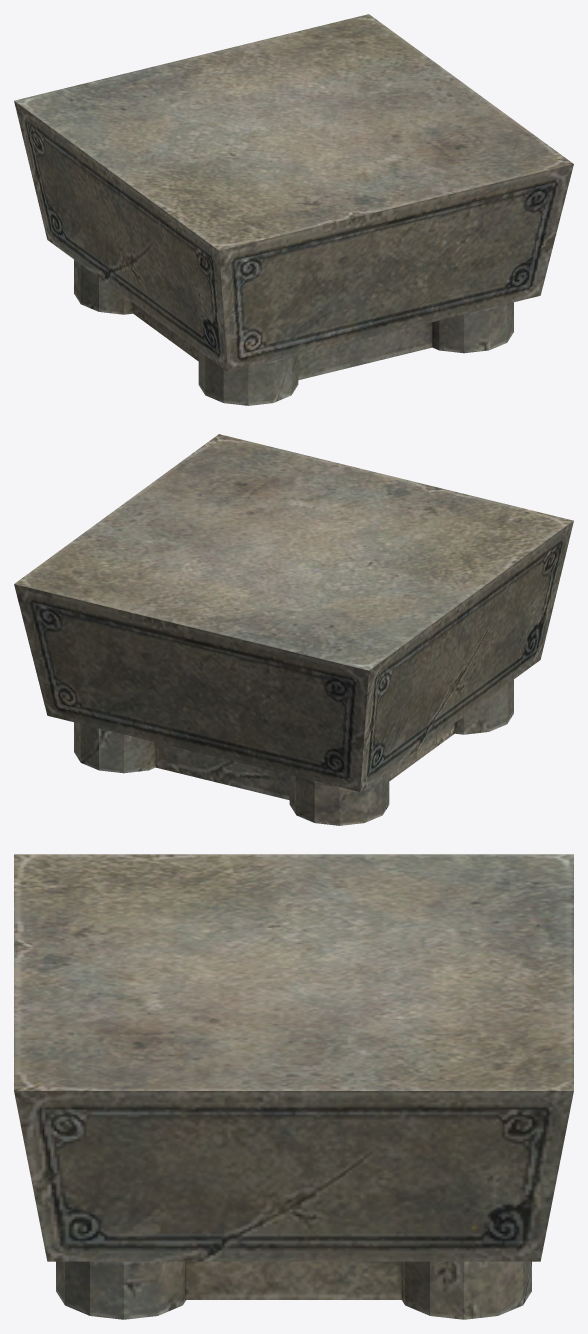
The model's file is bg_lut_lutomb_pillar08c_sm_old.FBX.
The picture shows the model from 3 angles, top to bottom: view 1: azimuth 30°, elevation 25°; view 2: azimuth 150°, elevation 25°; view 3: azimuth 270°, elevation 25°; orthographic projection. The views are drawn at different scales.
Visible parts, largest first — view 1: bg_lut_lutomb_pillar08c_sm_old; view 2: bg_lut_lutomb_pillar08c_sm_old; view 3: bg_lut_lutomb_pillar08c_sm_old.
Boxes of the visible parts, x1,y1,x2,y2 form: bg_lut_lutomb_pillar08c_sm_old: [14, 14, 573, 405]; bg_lut_lutomb_pillar08c_sm_old: [14, 434, 573, 825]; bg_lut_lutomb_pillar08c_sm_old: [14, 854, 573, 1319].
Size of the model in its own units: 132 by 64 by 132.
